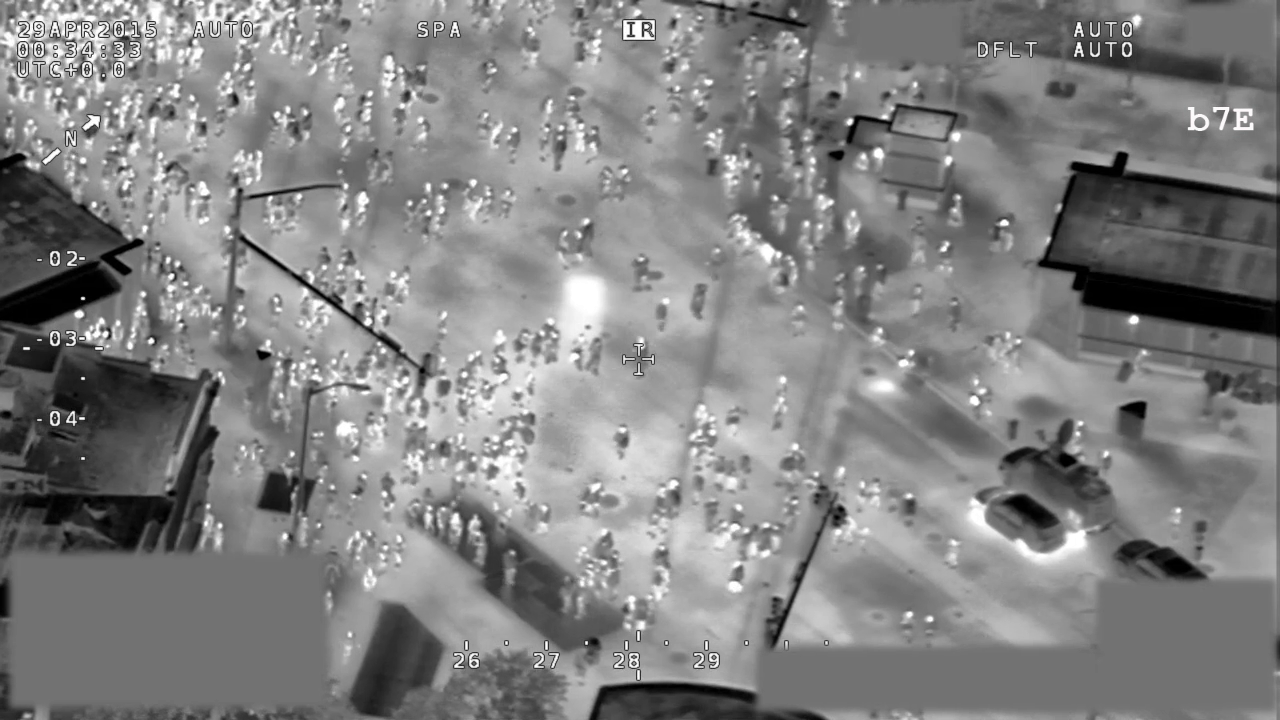vehicle: (990, 407, 1124, 546), (967, 475, 1071, 561)
